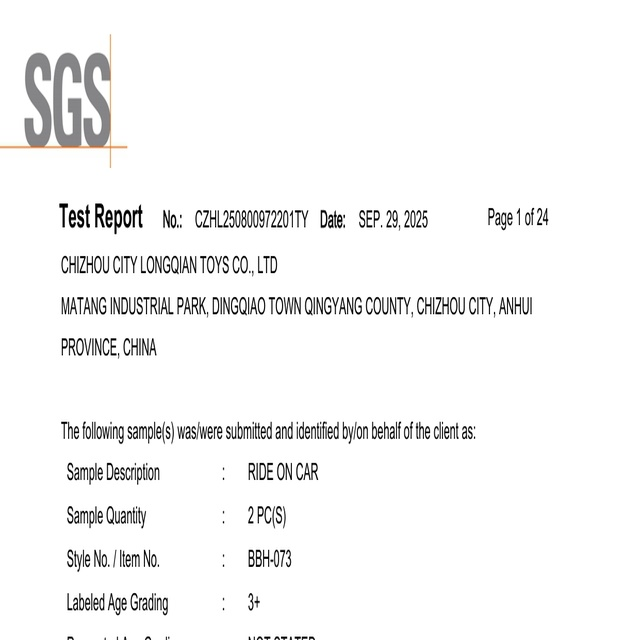sgs: (24, 51, 111, 147)
